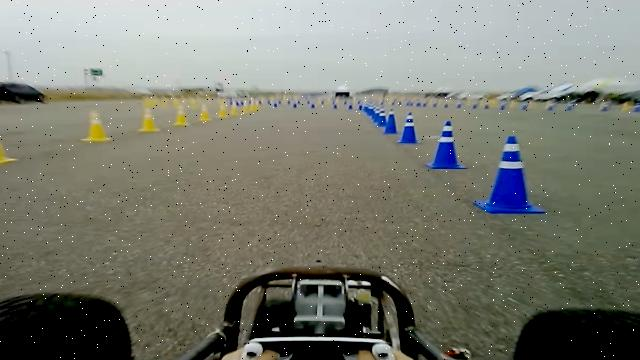blue cone: (473, 134, 546, 214), (427, 120, 468, 169), (397, 111, 421, 144), (383, 109, 399, 134)
yellow cone: (81, 109, 112, 142), (0, 122, 18, 165), (139, 106, 160, 132), (174, 105, 190, 126), (198, 103, 212, 122), (217, 98, 228, 118), (230, 100, 239, 115), (250, 98, 260, 111), (241, 100, 250, 114)
